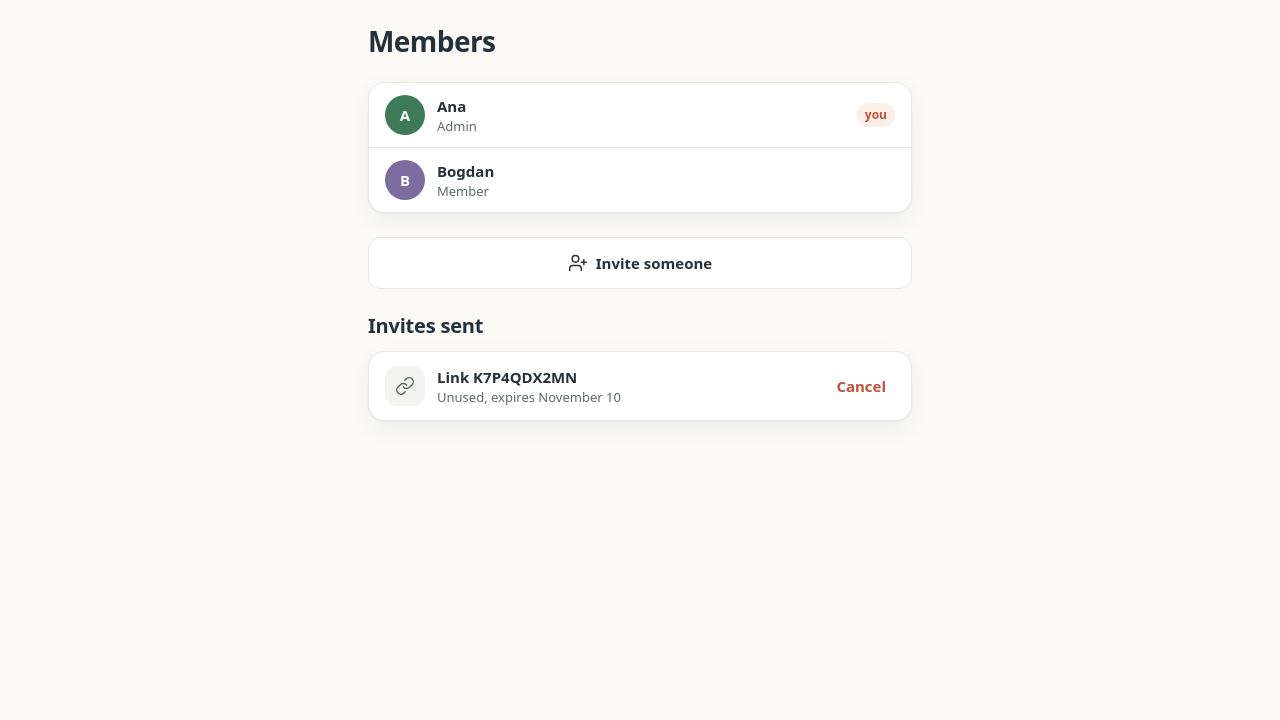
Test: crew screen › puts the invite back when cancelling fails
Click the button "Cancel" at (861, 386), box [827,364,895,408]
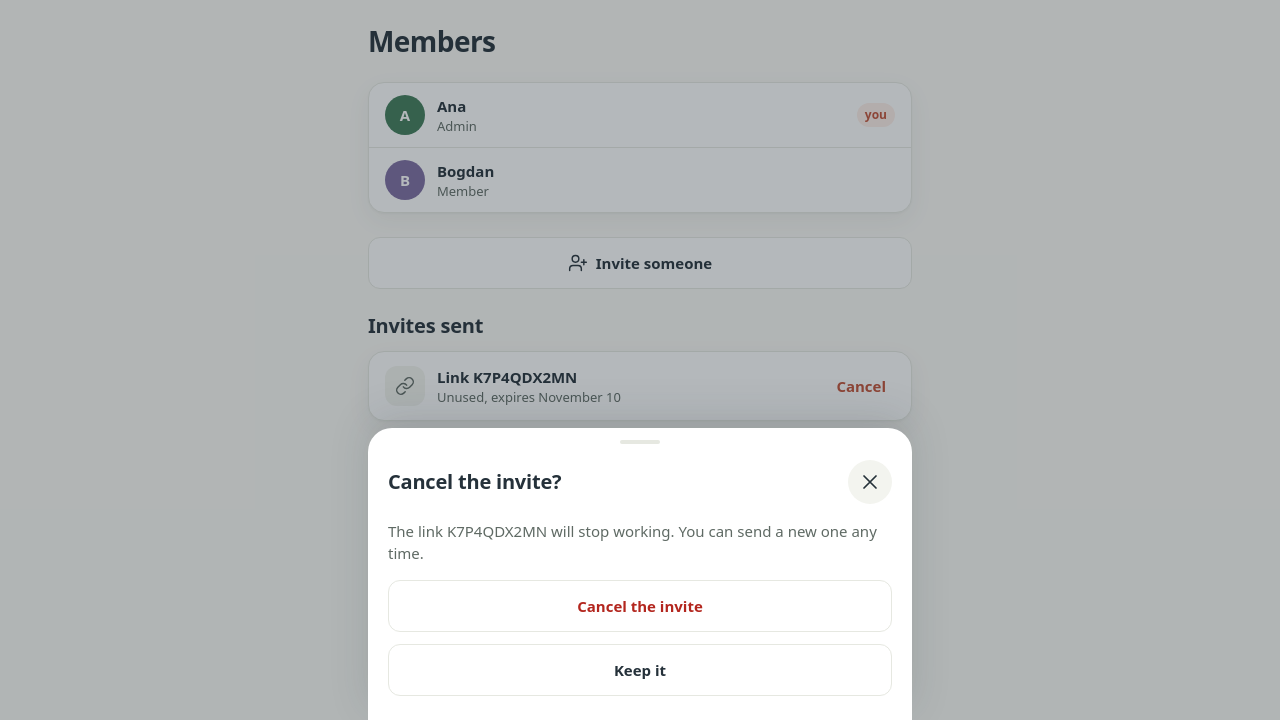
Click the button "Cancel the invite" at (640, 606), box [388,580,892,632]
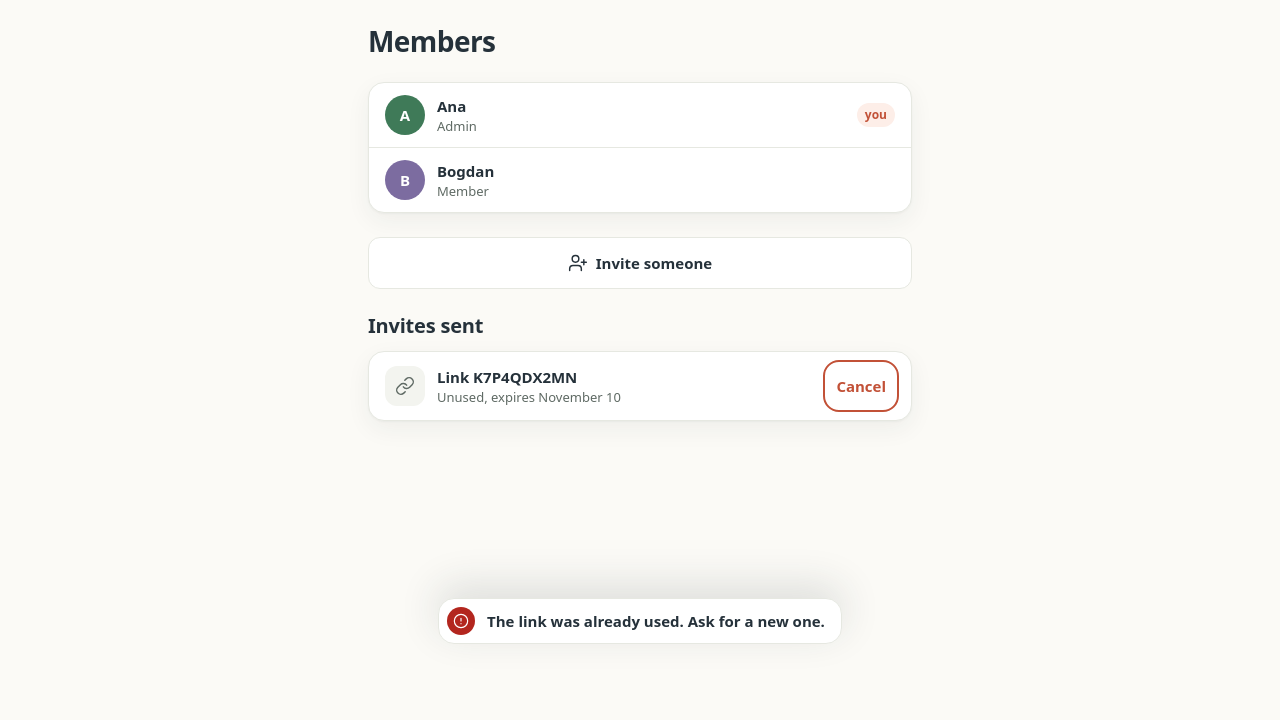
Check: the text "Link K7P4QDX2MN" is shown, box [437,367,577,387]
Check: the text "The link was already used. Ask for a new one." is shown, box [438,598,842,644]
